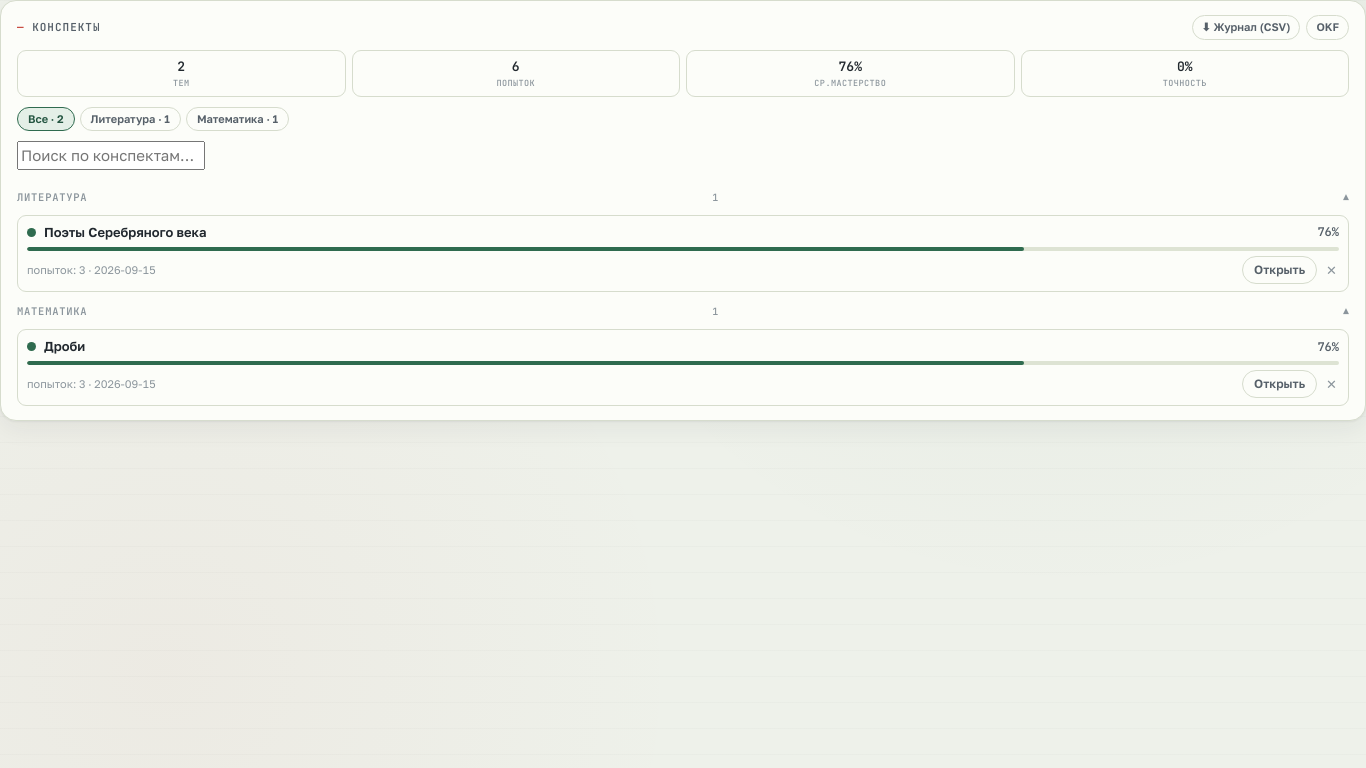
Test case: <KnowledgeWikiPanel/> › чип-фильтр: клик по предмету оставляет только его
Click the button "Математика · 1". click: (238, 119)
box: [186,107,289,131]
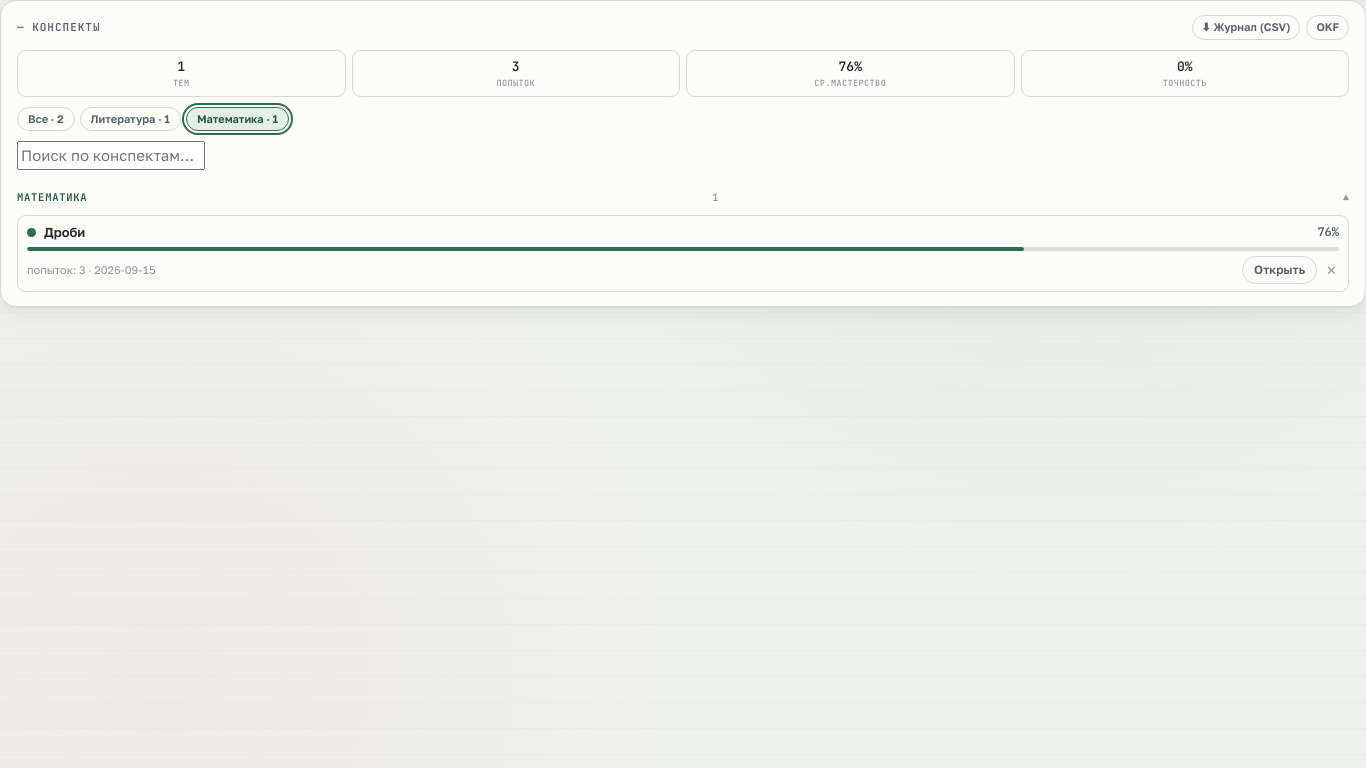
Expected: the heading with class "wiki-subject" reads "Математика", [17,190,87,204]
Result: the number of elements with class "wiki-group" is 1 at [17,186,1349,292]
